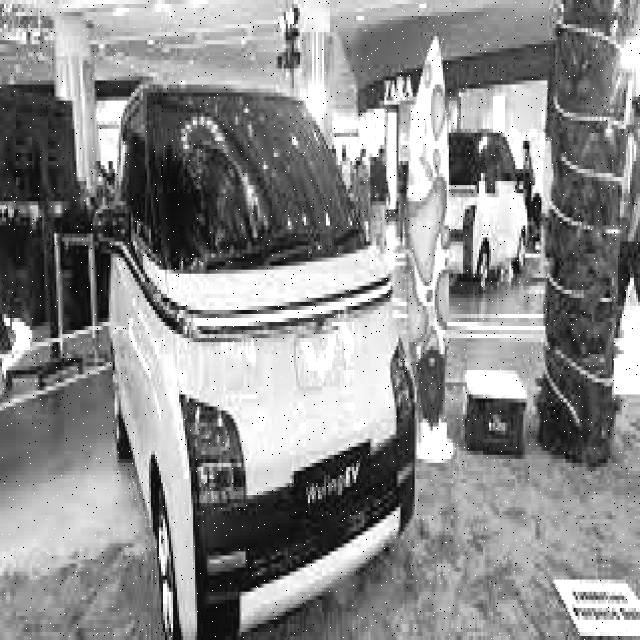Car: (101, 72, 421, 640)
